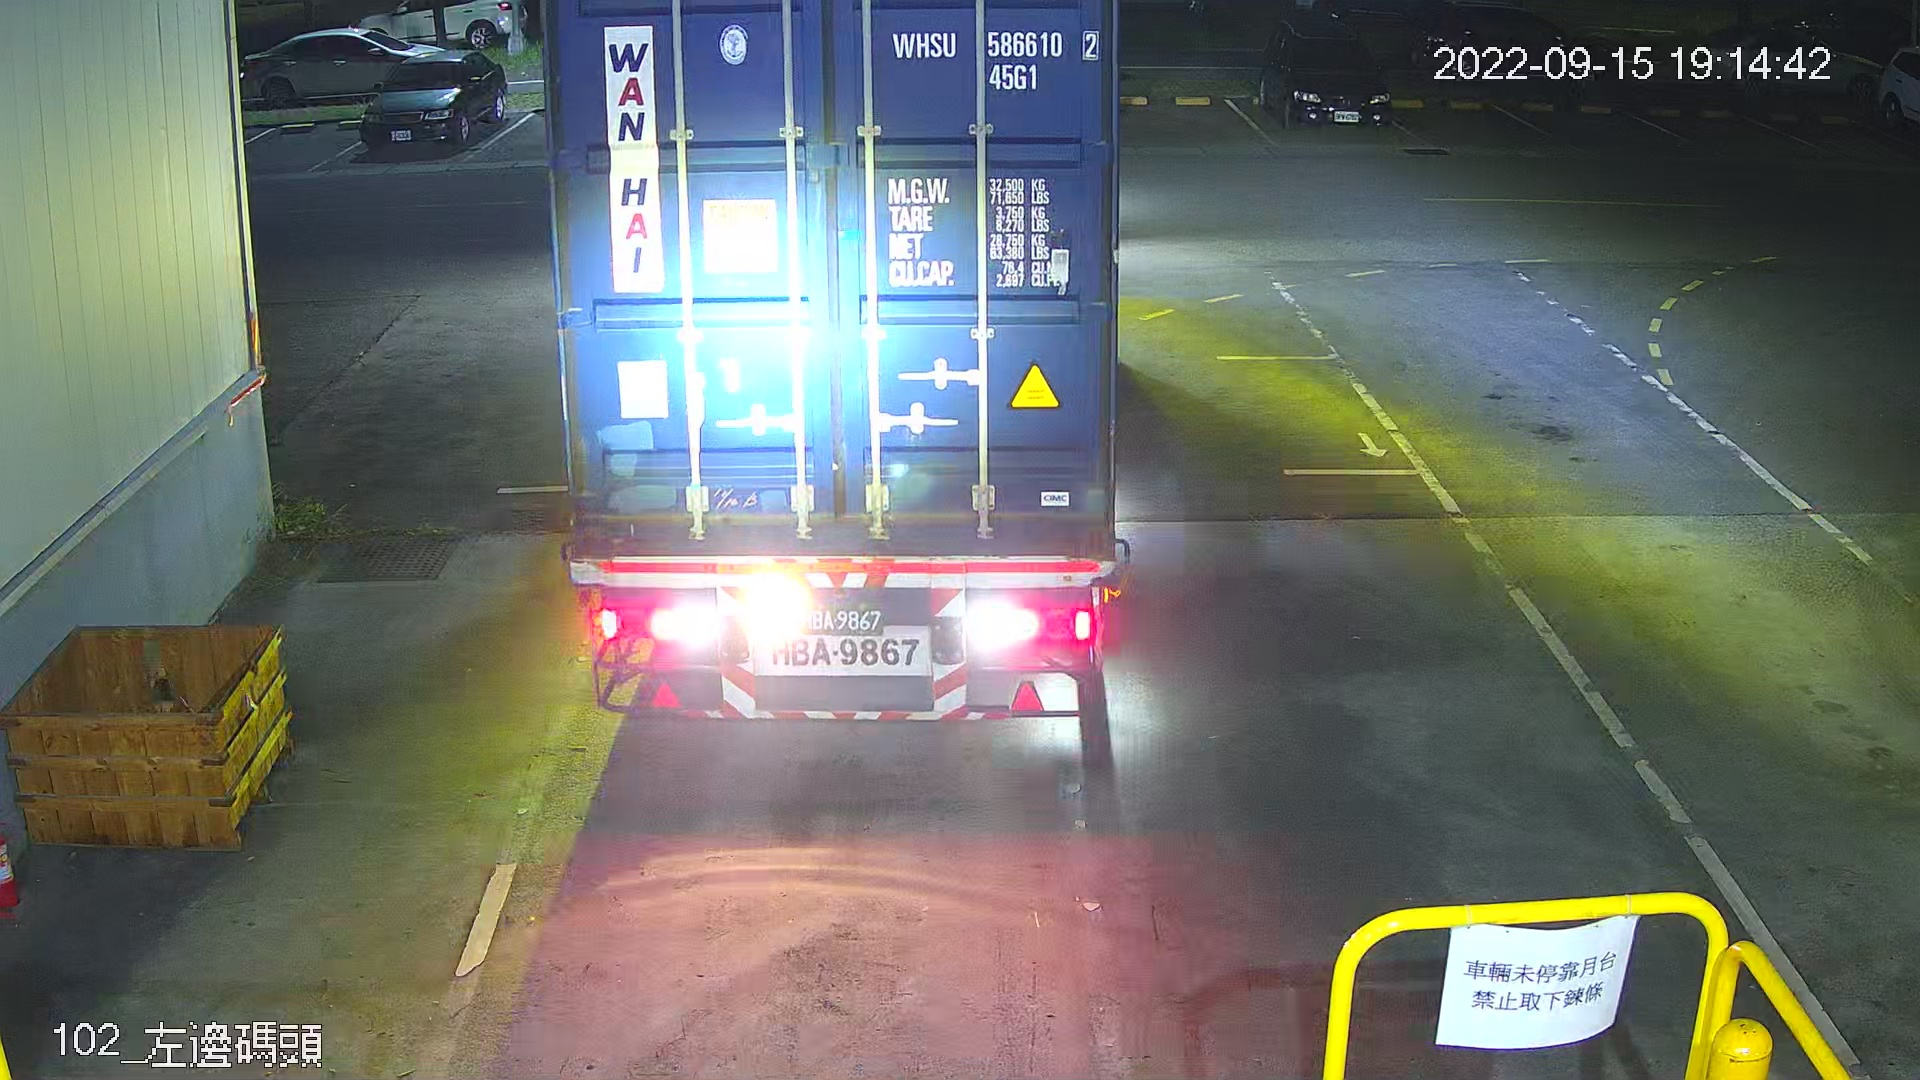container: (882, 22, 1106, 98)
